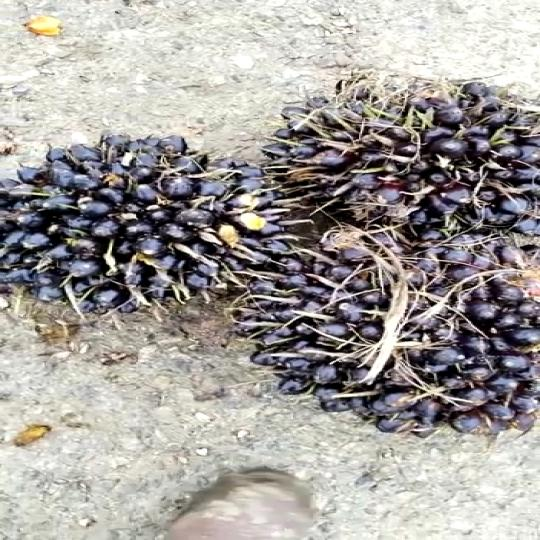mentah: (222, 248, 540, 434), (0, 114, 281, 314), (227, 70, 540, 240)
